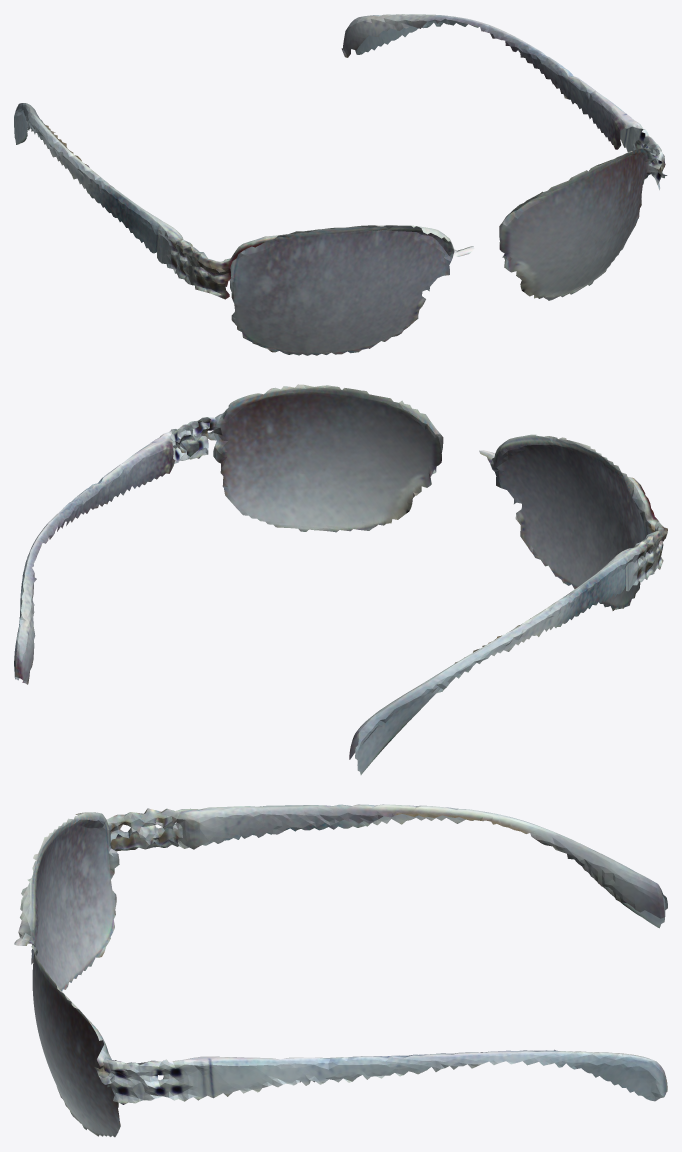
File: scan_align.obj
3 renders of one model, top to bottom at view 1: azimuth 30°, elevation 25°; view 2: azimuth 150°, elevation 25°; view 3: azimuth 270°, elevation 25°, orthographic. The views are drawn at different scales.
Bounding box in the file's own units: 0.1419 × 0.0388 × 0.1532.
Materials: 1 (1 with a texture image).
